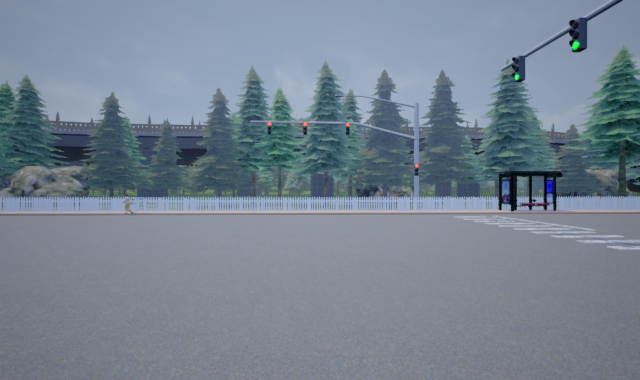pedestrian: (120, 192, 136, 213)
